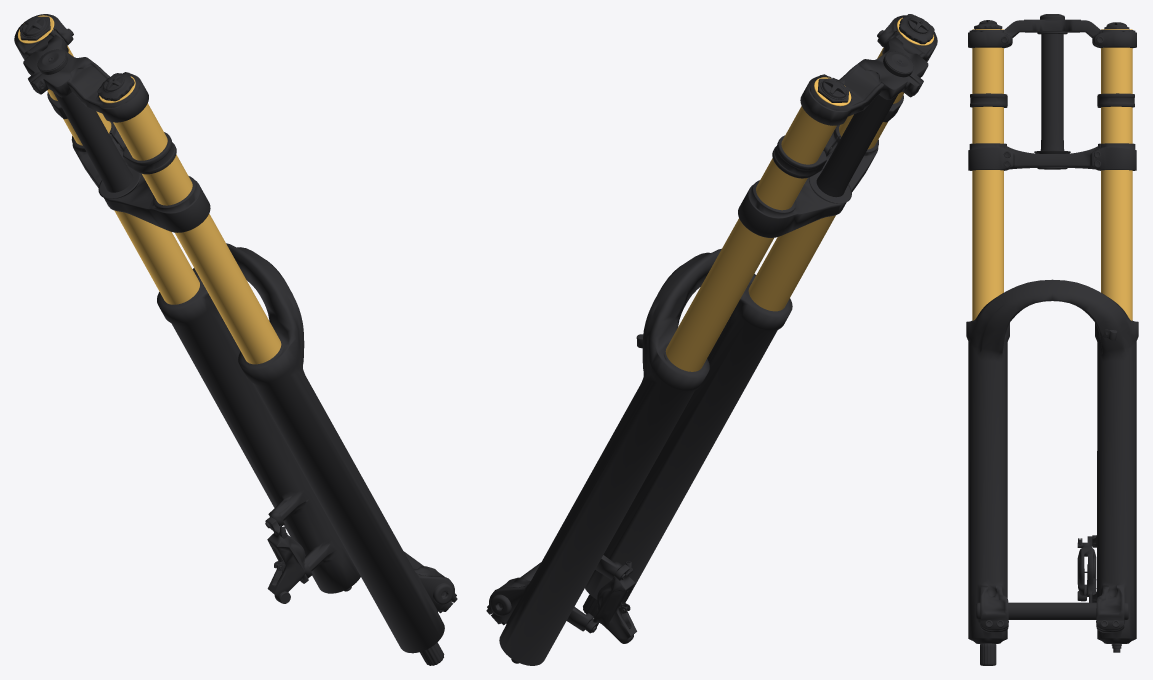
Rendered from tues.glb.
3 views of the same model, side by side, from view 1: azimuth 30°, elevation 25°; view 2: azimuth 150°, elevation 25°; view 3: azimuth 270°, elevation 25° (orthographic). The views are drawn at different scales.
Parts seen in each view (by area): view 1: fork_lower, fork_crown; view 2: fork_lower, fork_crown; view 3: fork_lower, fork_crown.
Boxes of the visible parts, box(x1,y1,x2,y2) form: fork_lower: box(157, 243, 457, 665); fork_crown: box(14, 14, 281, 364); fork_lower: box(486, 248, 792, 665); fork_crown: box(665, 14, 937, 371); fork_lower: box(966, 279, 1138, 665); fork_crown: box(968, 14, 1136, 320).
Size of the model in its own units: 0.436 by 0.7177 by 0.2135.
